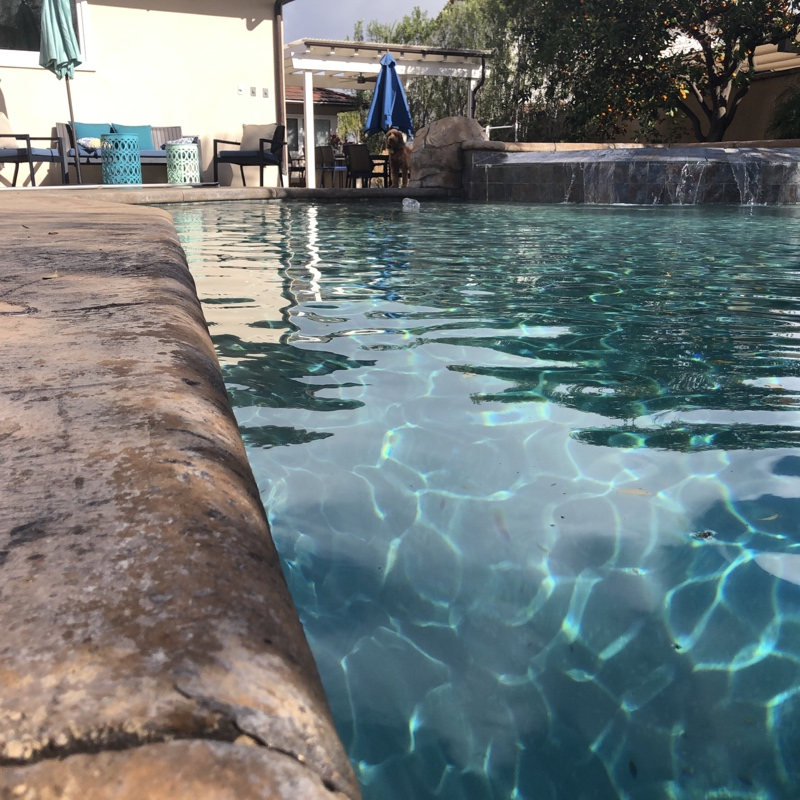Plastic Bottle: (403, 197, 421, 212)
